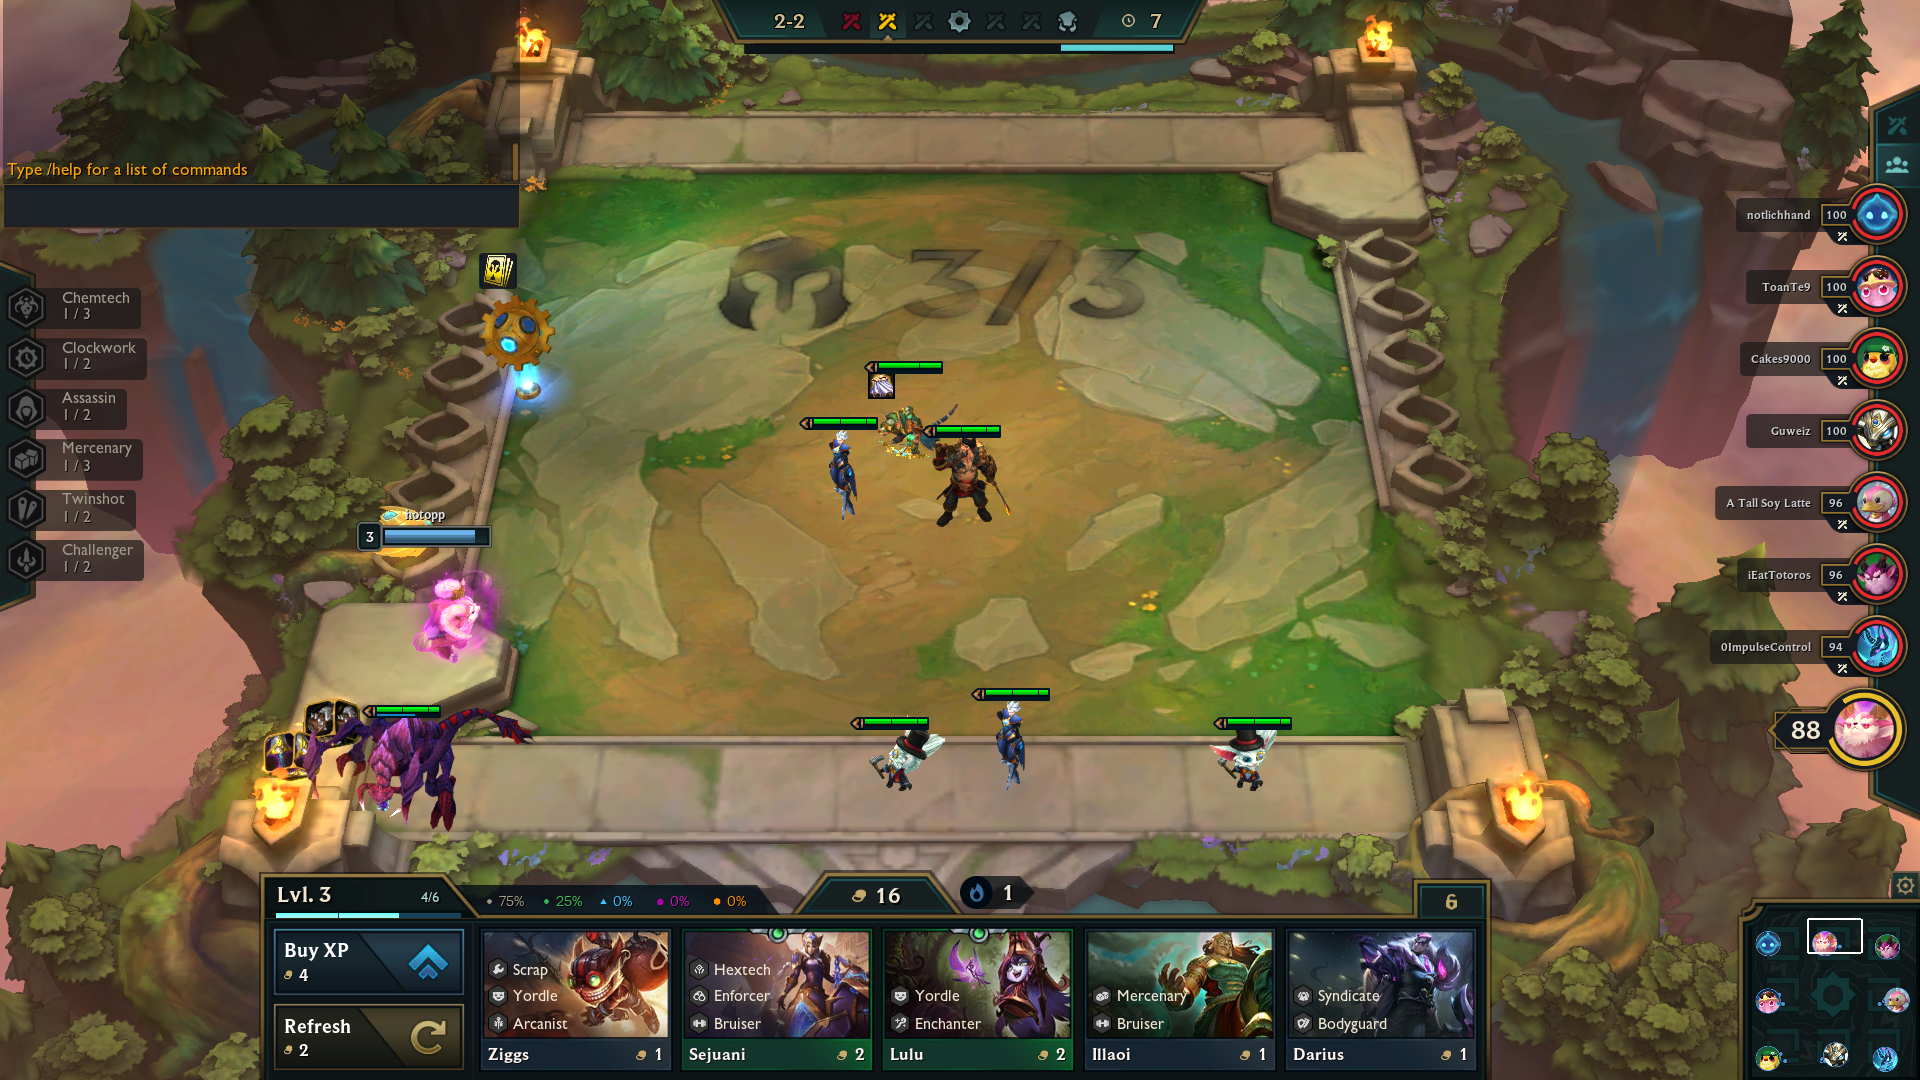cami: (977, 703, 1043, 793), (811, 419, 862, 520)
chog: (301, 684, 545, 835)
gang: (934, 436, 1015, 535)
gnar: (864, 709, 949, 812), (1208, 709, 1294, 812)
twit: (877, 407, 953, 469)
